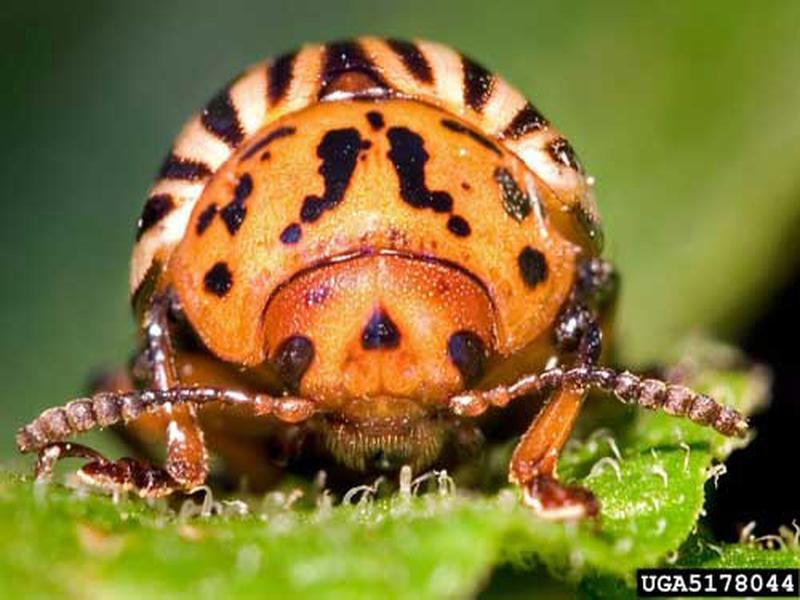hrosc: (102, 21, 643, 493)
